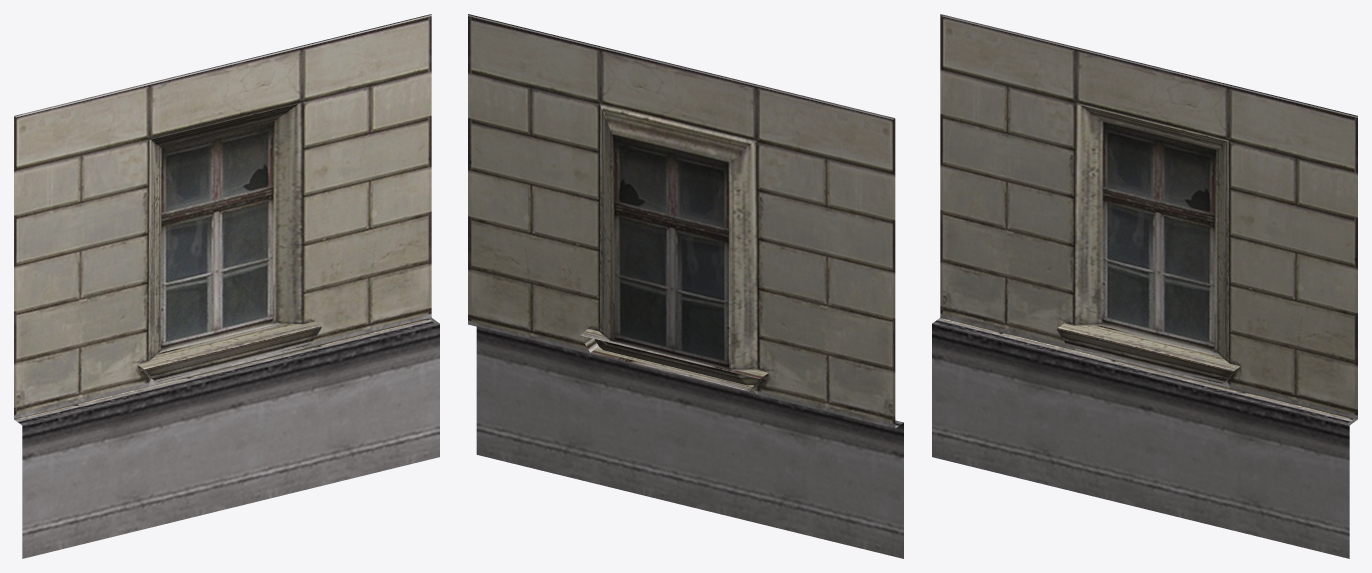
File: fenster1.obj
3 views of the same model, side by side, from view 1: azimuth 30°, elevation 25°; view 2: azimuth 150°, elevation 25°; view 3: azimuth 330°, elevation 25° (orthographic). The views are drawn at different scales.
Parts seen in each view (by area): view 1: polySurface9; view 2: polySurface9; view 3: polySurface9.
Boxes of the visible parts, x1=… form: polySurface9: x1=14, y1=14, x2=439, y2=558; polySurface9: x1=468, y1=14, x2=903, y2=558; polySurface9: x1=932, y1=14, x2=1357, y2=558.
Bounding box in the file's own units: 0.5 × 0.5 × 0.0349.
Materials: 1 (1 with a texture image).
